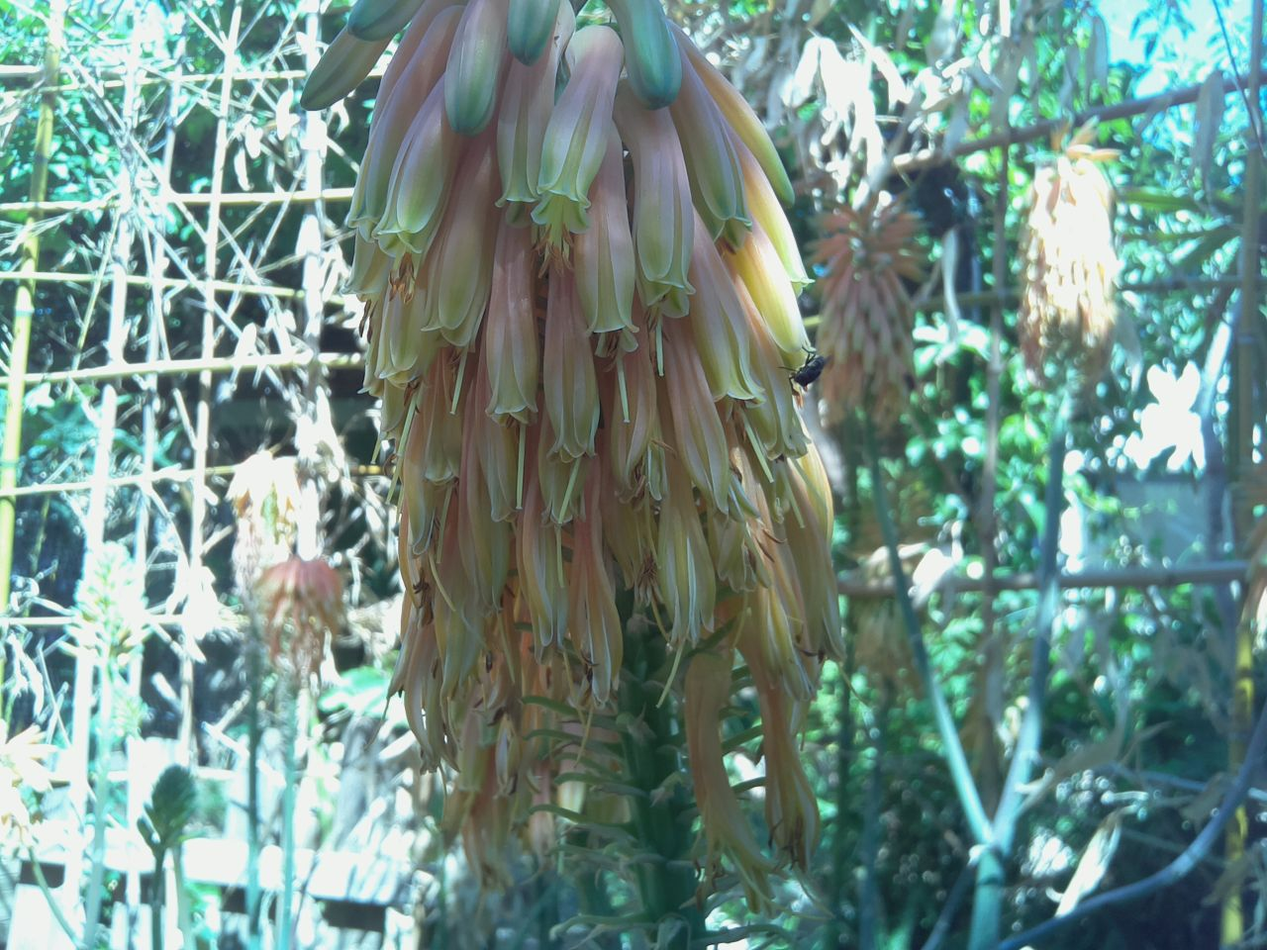Fly: (773, 343, 828, 396)
